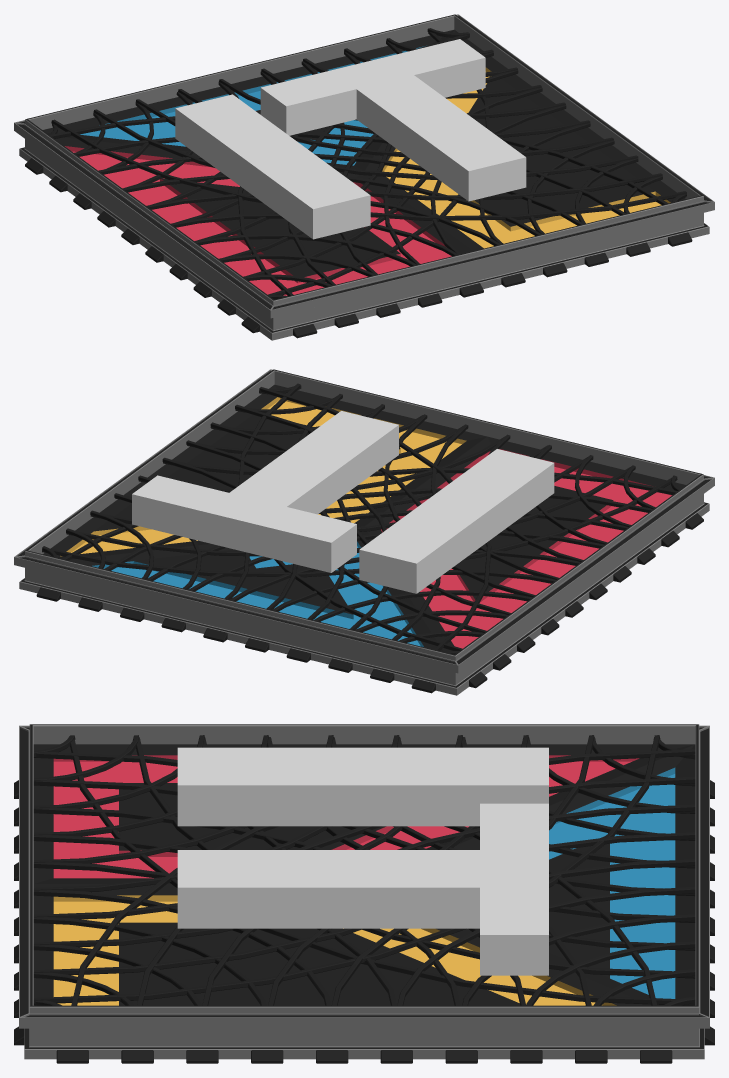
3 views of the same model, one above another, from view 1: azimuth 30°, elevation 25°; view 2: azimuth 150°, elevation 25°; view 3: azimuth 270°, elevation 25° (orthographic). The views are drawn at different scales.
Visible parts, largest first — view 1: Plane.005, Plane.004, IT, Circle.004, Plane.006; view 2: Plane.005, Plane.004, IT, Circle.004, Plane.006; view 3: Plane.004, IT, Plane.005, Circle.004, Plane.006.
Part boxes in pixels (x1,y1,x2,y2): Plane.005: (14,14,714,340); Plane.004: (43,29,685,295); IT: (175,39,526,239); Circle.004: (49,28,686,299); Plane.006: (25,158,692,338); Plane.005: (14,369,714,695); Plane.004: (43,384,685,651); IT: (132,411,554,593); Circle.004: (42,383,680,654); Plane.006: (36,513,703,693); Plane.004: (33,744,695,1005); IT: (177,747,548,975); Plane.005: (19,724,709,1059); Circle.004: (33,735,695,1005); Plane.006: (14,780,714,1063).
Size of the model in its own units: 2.12 by 0.2957 by 2.12.
